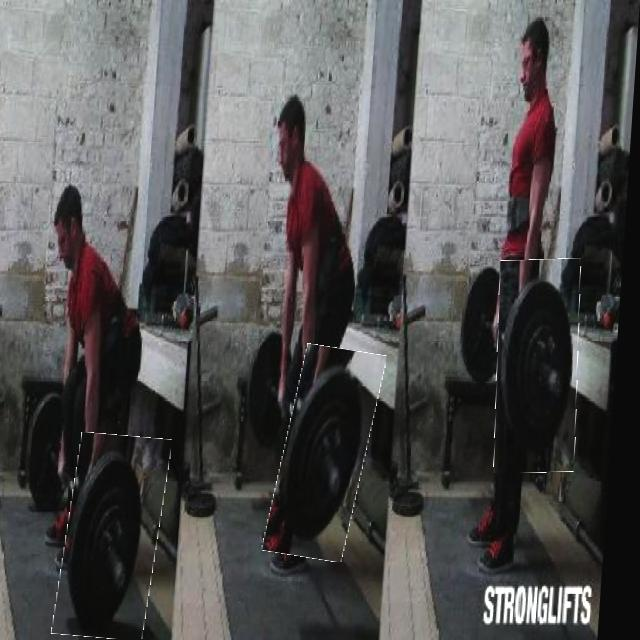barbell: (278, 347, 386, 561), (65, 435, 176, 640), (496, 260, 591, 473)
